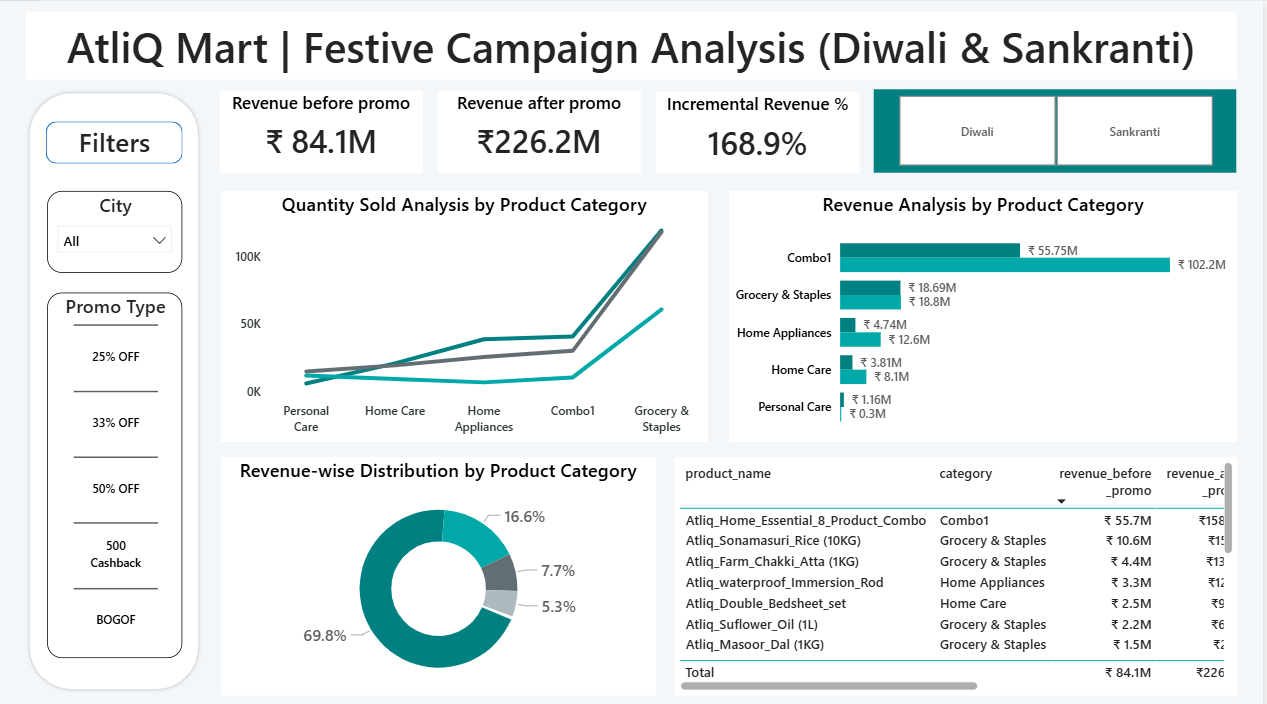

What the dashboard file says about the page in this screenshot:
{"tool":"powerbi","page":{"name":"Product & Category Performance","canvas":[1280,720],"ordinal":0},"visuals":[{"type":"textbox","box":[27.6,10.8,1225.8,69.1],"z":0},{"type":"slicer","fields":{"Values":["dim_campaign.campaign_name"]},"box":[885.7,90,367.1,84.3],"z":1000},{"type":"shape","box":[27.1,90,178.6,611.4],"z":2000},{"type":"slicer","title":"City","fields":{"Values":["dim_stores.city"]},"box":[48.6,192.9,137.1,82.9],"z":3000},{"type":"cardVisual","title":"Revenue after promo","fields":{"Data":["Measures (2).revenue_after_promo"]},"box":[444.3,91.4,205.3,83.4],"z":4000},{"type":"cardVisual","title":"Revenue before promo","fields":{"Data":["Measures (2).revenue_before_promo"]},"box":[223.8,91.4,205.3,83.4],"z":5000},{"type":"clusteredBarChart","title":"Revenue Analysis by Product Category","fields":{"Category":["dim_products.category"],"Y":["Measures (2).revenue_before_promo","Measures (2).IR"]},"box":[740,192.9,514.3,254.3],"z":6000},{"type":"shape","box":[47.1,121.4,138.6,42.9],"z":7000},{"type":"textbox","box":[75.7,118.6,82.9,54.3],"z":8000},{"type":"cardVisual","title":"Incremental Revenue %","fields":{"Data":["Measures (2).IR %"]},"box":[664.5,91.8,206.4,82.7],"z":9000},{"type":"lineChart","title":"Quantity Sold Analysis by Product Category ","fields":{"Category":["dim_products.category"],"Y":["Measures (2).ISU"],"Y2":["Measures (2).quantity_sold_before","Measures (2).quantity_sold_after"]},"box":[224.3,192.9,492.9,254.3],"z":10000},{"type":"slicer","title":"Promo Type","fields":{"Values":["fact_events.promo_type"]},"box":[48.6,295.7,137.1,370],"z":11000},{"type":"tableEx","fields":{"Values":["dim_products.product_name","dim_products.category","Measures (2).revenue_before_promo","Measures (2).revenue_after_promo","Measures (2).IR","Measures (2).IR %","Measures (2).quantity_sold_before","Measures (2).quantity_sold_after","Measures (2).ISU","Measures (2).ISU %"]},"box":[684.3,461.4,570,241.4],"z":12000},{"type":"donutChart","title":"Revenue-wise Distribution by Product Category ","fields":{"Category":["dim_products.category"],"Y":["Measures (2).revenue_after_promo"]},"box":[224.3,461.4,440,241.4],"z":13000}]}

Visuals, with their boxes in screenshot pixels (x1, y1, x2, y2), scaled from the page's 1280x720 canvas onto the 1267x704 screenshot:
textbox: box(27, 11, 1241, 78)
slicer - dim_campaign.campaign_name: box(877, 88, 1240, 170)
shape: box(27, 88, 204, 686)
"City" slicer: box(48, 189, 184, 270)
"Revenue after promo" cardVisual: box(440, 89, 643, 171)
"Revenue before promo" cardVisual: box(222, 89, 425, 171)
"Revenue Analysis by Product Category" clusteredBarChart: box(732, 189, 1242, 437)
shape: box(47, 119, 184, 161)
textbox: box(75, 116, 157, 169)
"Incremental Revenue %" cardVisual: box(658, 90, 862, 171)
"Quantity Sold Analysis by Product Category " lineChart: box(222, 189, 710, 437)
"Promo Type" slicer: box(48, 289, 184, 651)
tableEx - dim_products.product_name x dim_products.category: box(677, 451, 1242, 687)
"Revenue-wise Distribution by Product Category " donutChart: box(222, 451, 658, 687)
